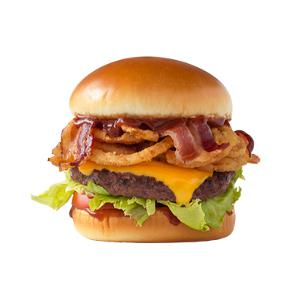cheeseburger_475cal: (29, 36, 270, 249)
